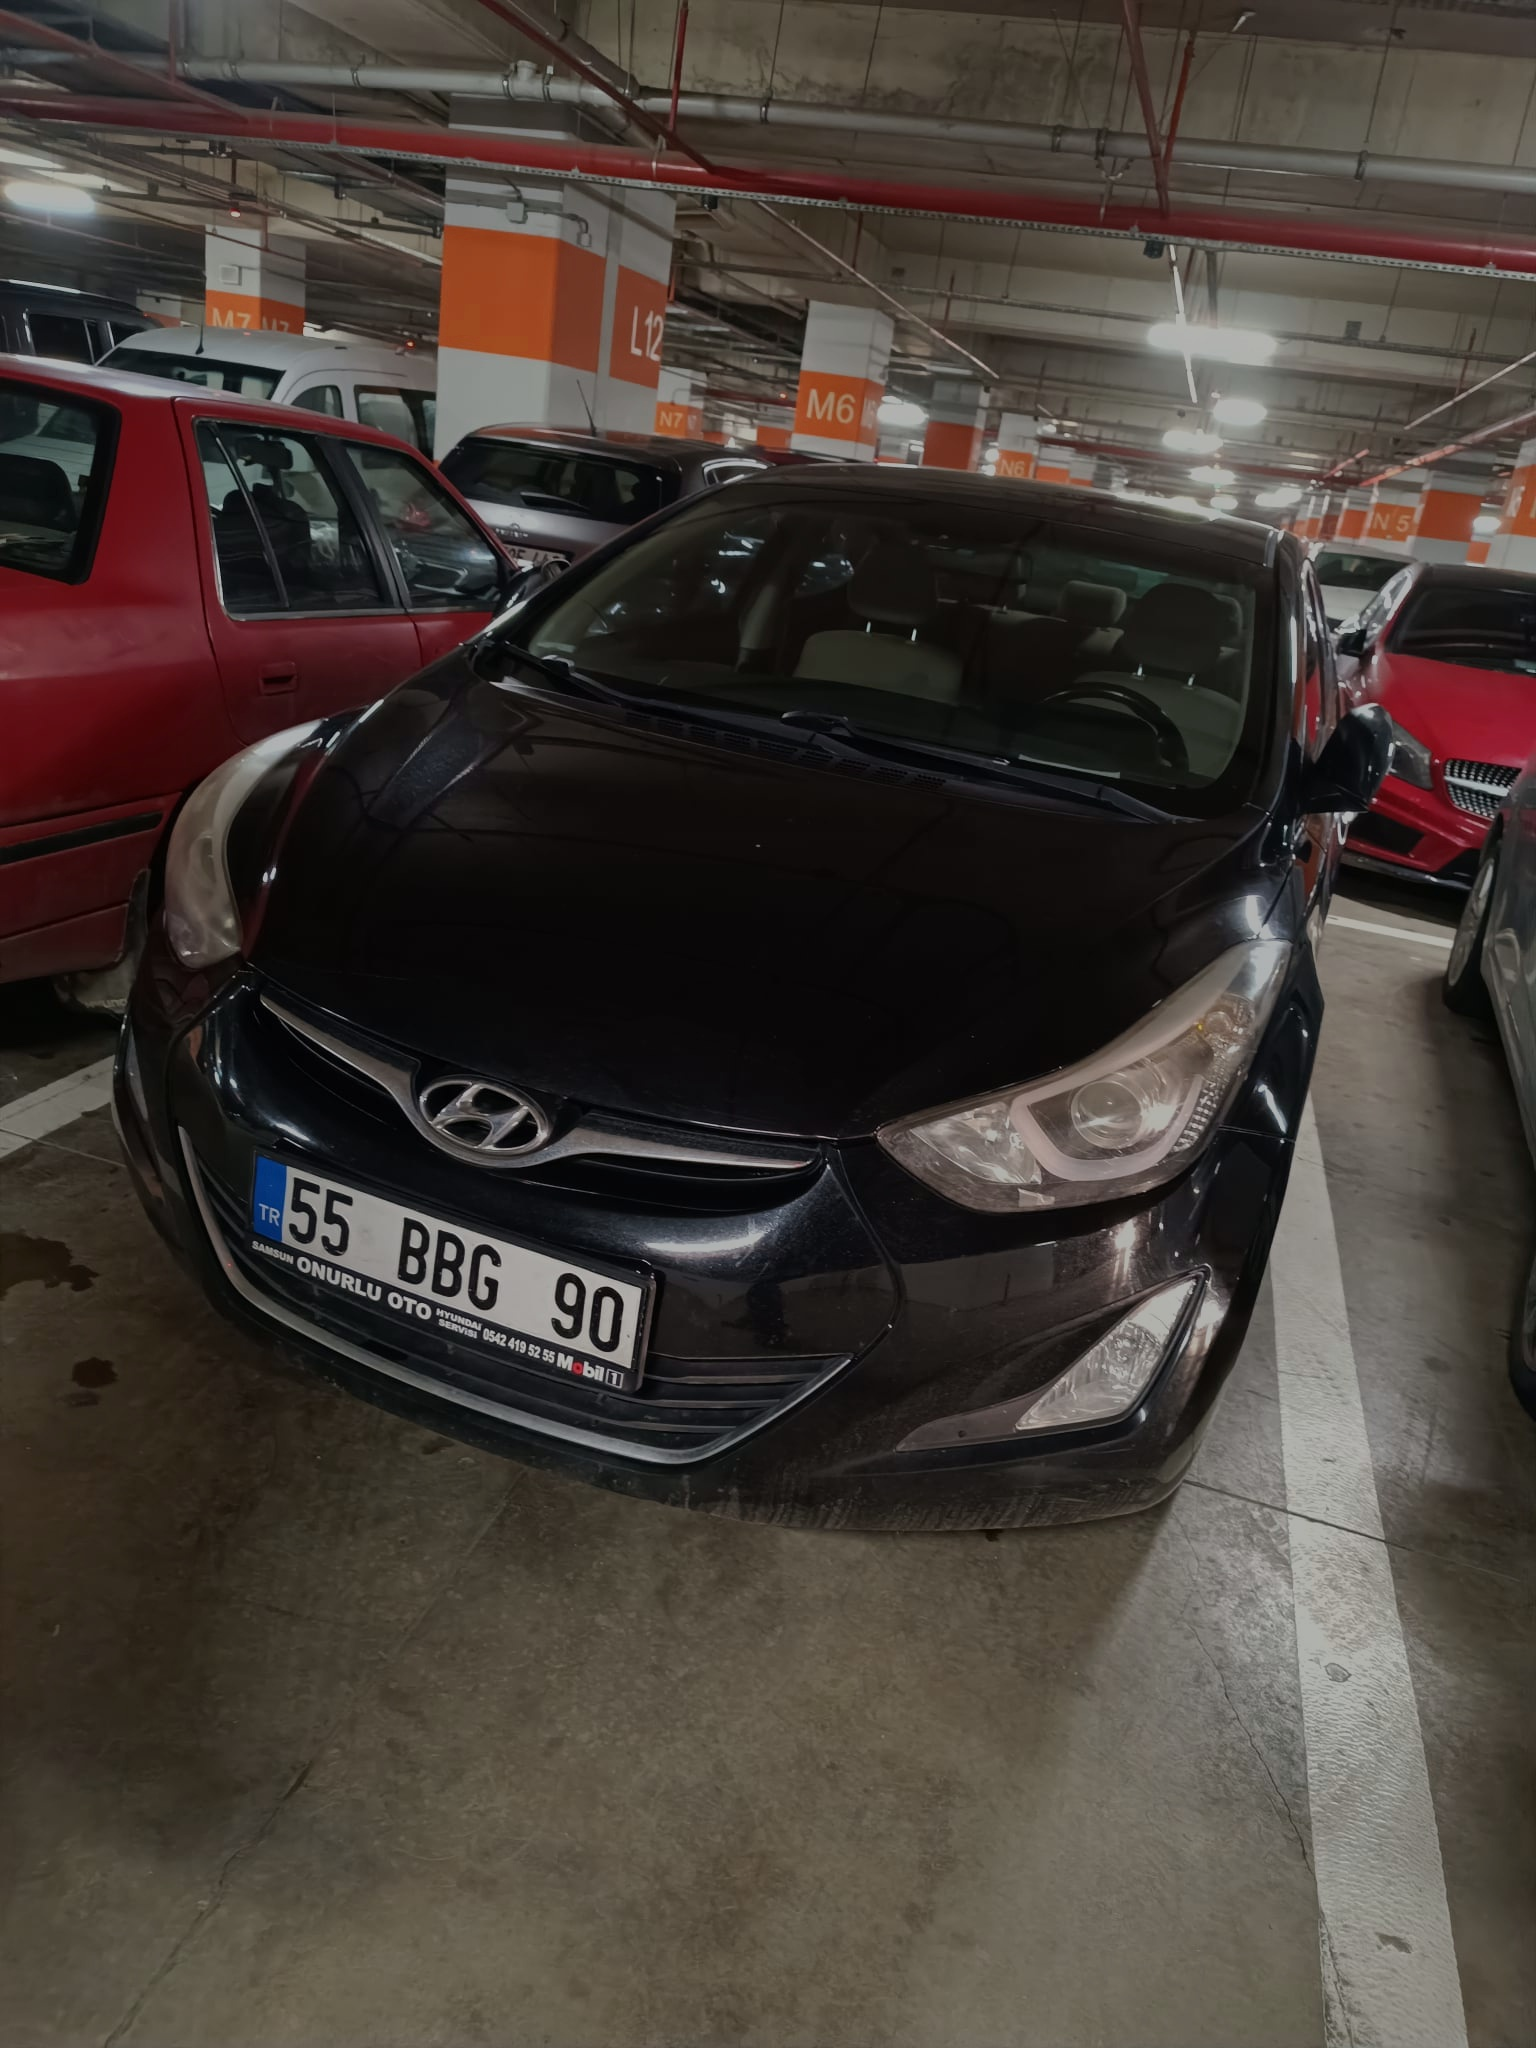plaka: (285, 1148, 639, 1381)
